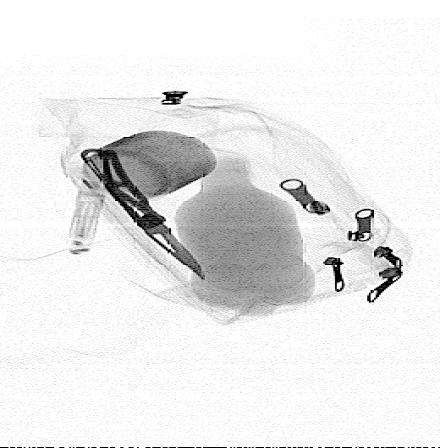Knife: (79, 147, 207, 282)
